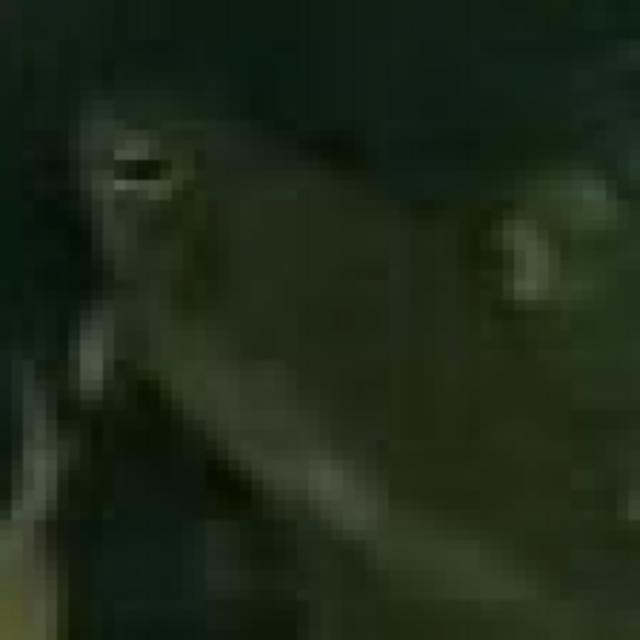fish: (11, 10, 640, 640)
